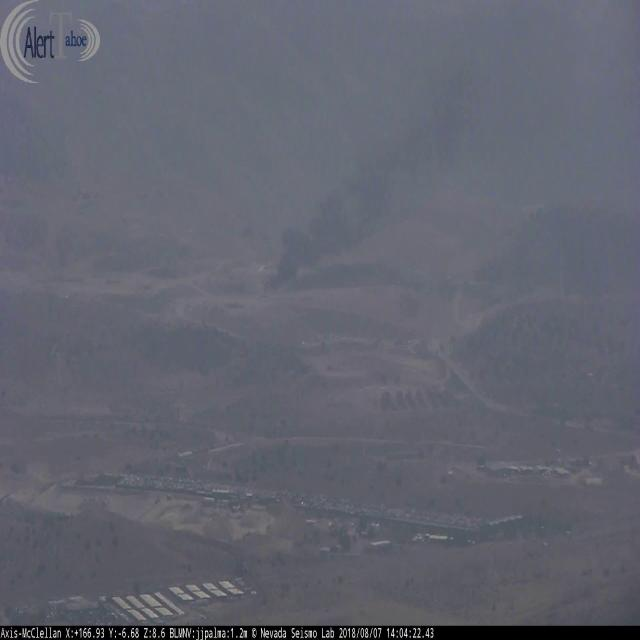smoke: (262, 52, 482, 314)
